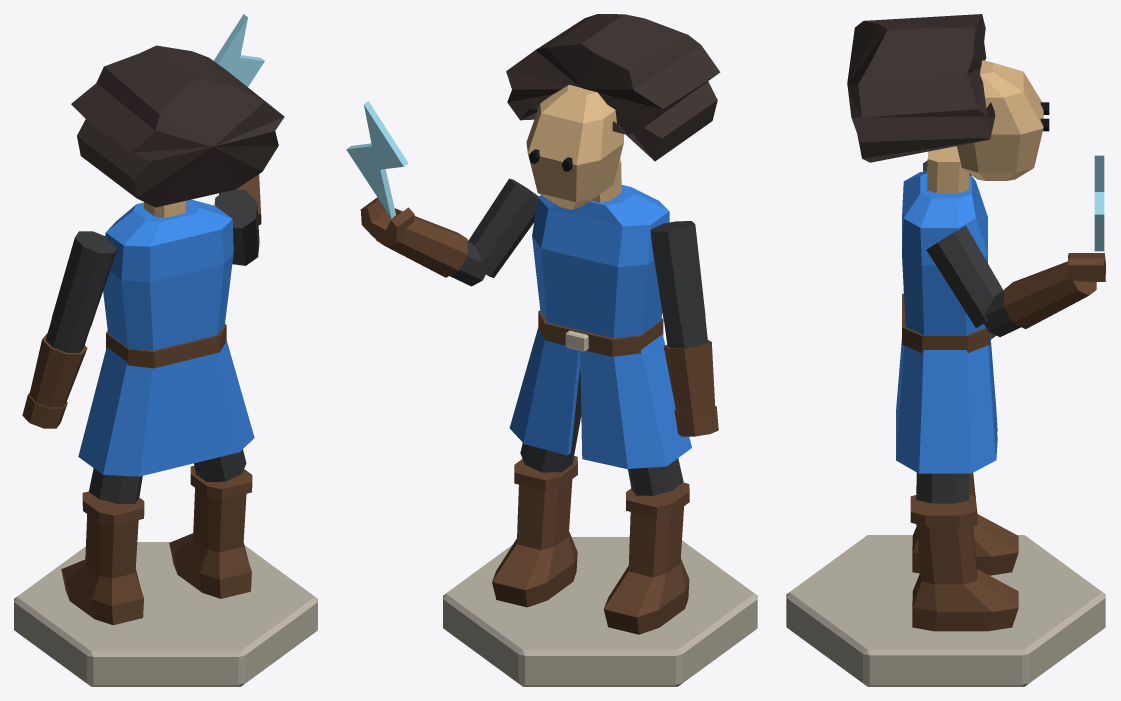
Rendered from human_stormcaller_t1.glb.
3 views of the same model, side by side, from view 1: azimuth 30°, elevation 25°; view 2: azimuth 150°, elevation 25°; view 3: azimuth 270°, elevation 25° (orthographic). The views are drawn at different scales.
Visible parts, largest first — view 1: Foundation_Hexagonal_Stone, storm_one_connected_swept_back_hair, Continuous_Split_Tunic_Skirt, Continuous_Tunic_Bodice, Boot_1, Boot_-1, left_upper_sleeve, left_bracer, right_upper_sleeve, Waist_Belt, storm_one_simple_zigzag_lightning, Trouser_-1 (+6 smaller); view 2: Foundation_Hexagonal_Stone, storm_one_connected_swept_back_hair, Continuous_Tunic_Bodice, Angular_Face, Continuous_Split_Tunic_Skirt, Boot_1, Boot_-1, Split_Tunic_Front_1, Split_Tunic_Front_-1, left_upper_sleeve, right_upper_sleeve, right_bracer (+11 smaller); view 3: Foundation_Hexagonal_Stone, storm_one_connected_swept_back_hair, Continuous_Split_Tunic_Skirt, Continuous_Tunic_Bodice, Boot_1, Angular_Face, right_upper_sleeve, right_bracer, Boot_-1, Small_Neck, Boot_Cuff_1, Waist_Belt (+4 smaller).
Part boxes in pixels (x1,y1,x2,y2): Foundation_Hexagonal_Stone: [14, 542, 317, 686]; storm_one_connected_swept_back_hair: [71, 45, 284, 207]; Continuous_Split_Tunic_Skirt: [78, 341, 254, 476]; Continuous_Tunic_Bodice: [103, 199, 233, 350]; Boot_1: [169, 488, 251, 598]; Boot_-1: [61, 514, 143, 625]; left_upper_sleeve: [52, 231, 116, 332]; left_bracer: [29, 333, 87, 407]; right_upper_sleeve: [214, 189, 259, 265]; Waist_Belt: [106, 324, 226, 368]; storm_one_simple_zigzag_lightning: [213, 14, 264, 86]; Trouser_-1: [88, 468, 142, 504]; Foundation_Hexagonal_Stone: [443, 537, 757, 686]; storm_one_connected_swept_back_hair: [506, 14, 720, 161]; Continuous_Tunic_Bodice: [532, 185, 669, 338]; Angular_Face: [526, 84, 623, 209]; Continuous_Split_Tunic_Skirt: [509, 328, 691, 468]; Boot_1: [492, 479, 577, 607]; Boot_-1: [603, 506, 689, 634]; Split_Tunic_Front_1: [523, 340, 580, 455]; Split_Tunic_Front_-1: [580, 350, 628, 469]; left_upper_sleeve: [650, 221, 705, 323]; right_upper_sleeve: [468, 178, 538, 277]; right_bracer: [375, 208, 467, 277]; Foundation_Hexagonal_Stone: [786, 535, 1105, 686]; storm_one_connected_swept_back_hair: [847, 14, 995, 162]; Continuous_Split_Tunic_Skirt: [896, 339, 995, 473]; Continuous_Tunic_Bodice: [902, 171, 987, 335]; Boot_1: [912, 523, 1018, 631]; Angular_Face: [957, 60, 1043, 180]; right_upper_sleeve: [926, 226, 1003, 327]; right_bracer: [1004, 257, 1096, 329]; Boot_-1: [912, 473, 1018, 575]; Small_Neck: [927, 146, 969, 193]; Boot_Cuff_1: [910, 494, 975, 526]; Waist_Belt: [902, 293, 989, 352].
Size of the model in its own units: 1.04 by 1.94 by 0.9295.
